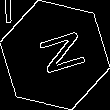N_W: (25, 28, 85, 82)
